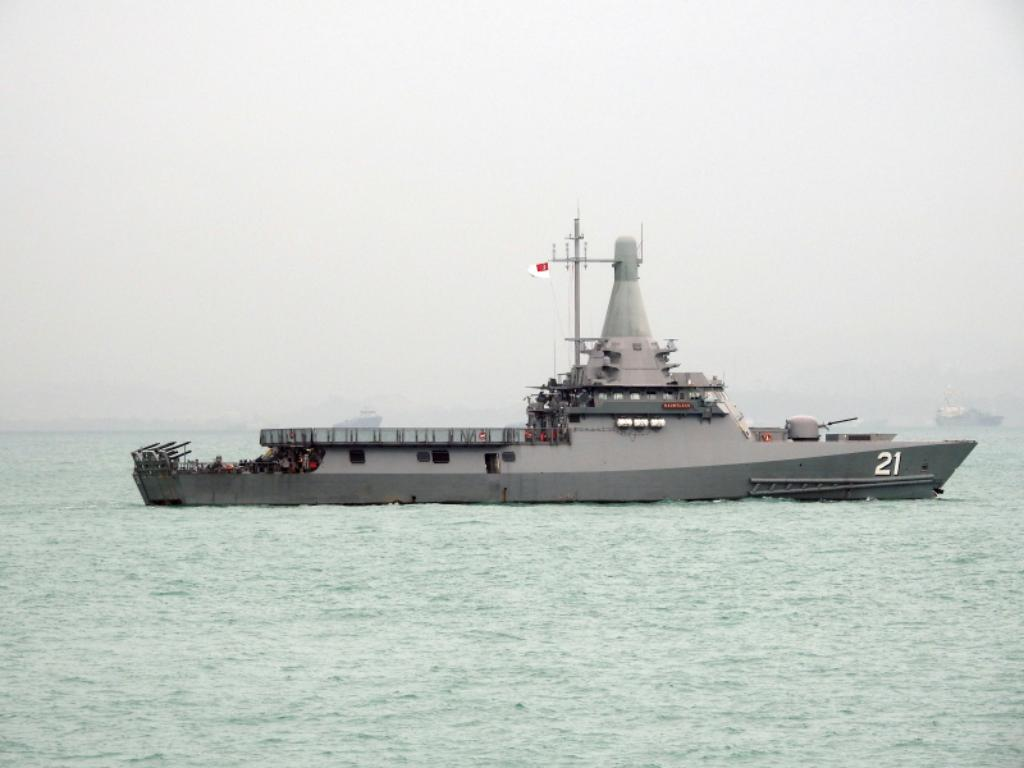Warship: (128, 202, 980, 508)
